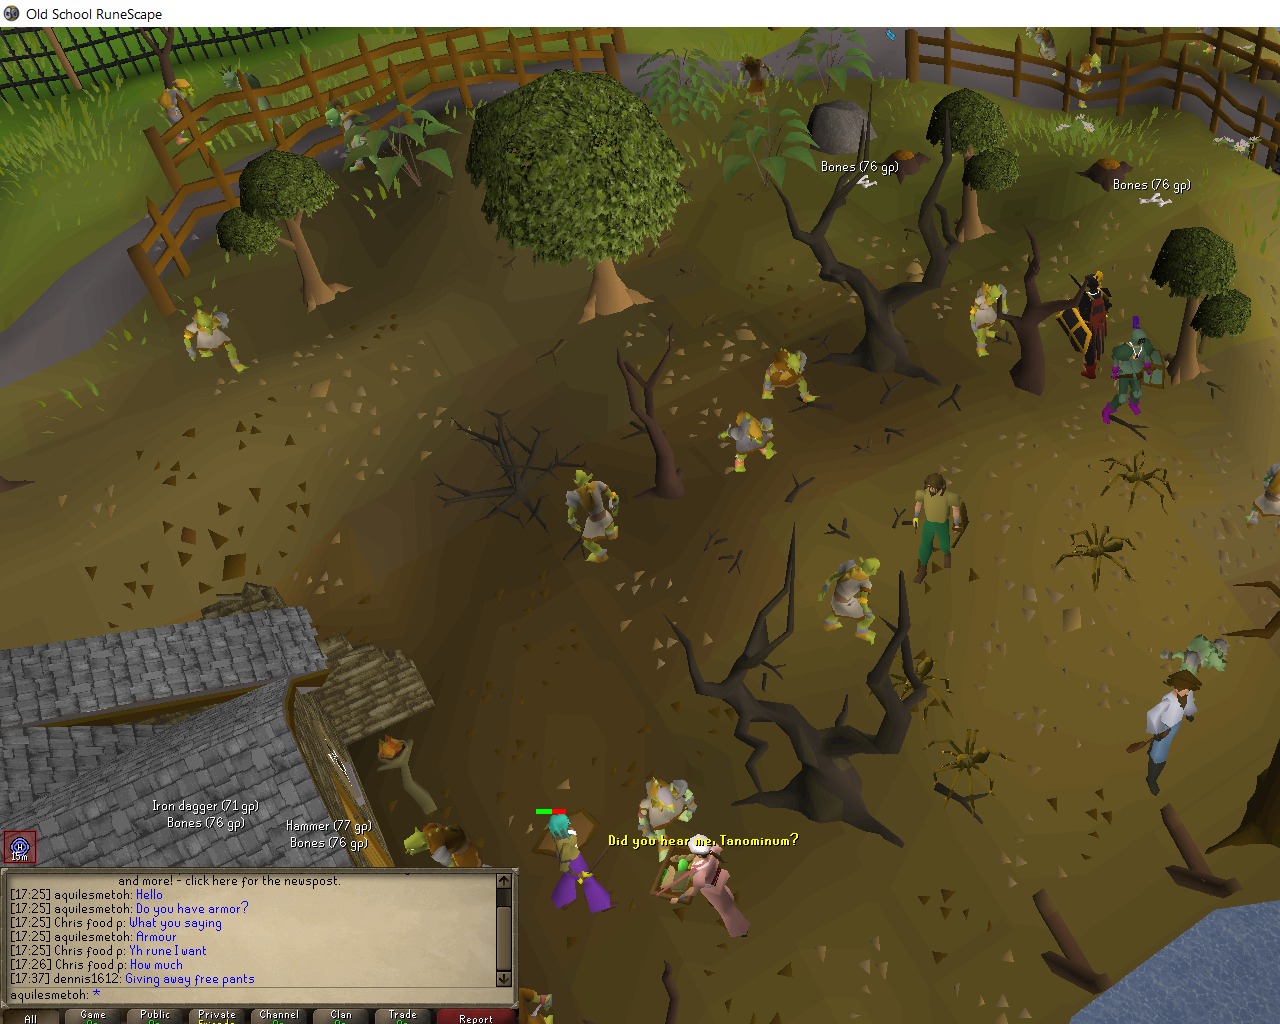Goblin: (627, 770, 720, 870), (559, 469, 632, 571), (1153, 624, 1250, 697), (321, 99, 395, 181), (174, 303, 252, 379), (711, 409, 794, 478), (823, 552, 884, 647), (144, 75, 218, 153), (753, 342, 832, 413), (222, 61, 287, 133), (967, 276, 1015, 362), (728, 52, 787, 104), (1066, 52, 1115, 112), (1015, 29, 1062, 80)
